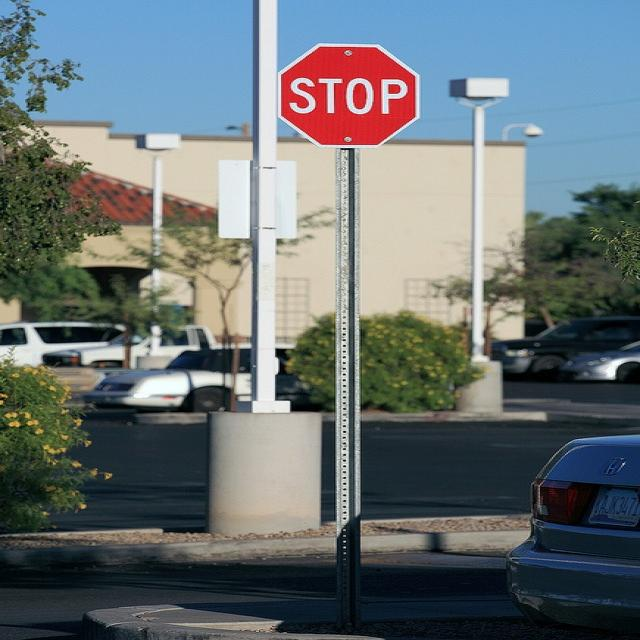car: (503, 432, 637, 636), (78, 341, 306, 409), (487, 313, 639, 377), (558, 339, 638, 384)
pole: (320, 149, 382, 620), (238, 2, 302, 403), (459, 104, 494, 357), (141, 156, 177, 343)
truck: (38, 323, 294, 367), (0, 320, 125, 366)
